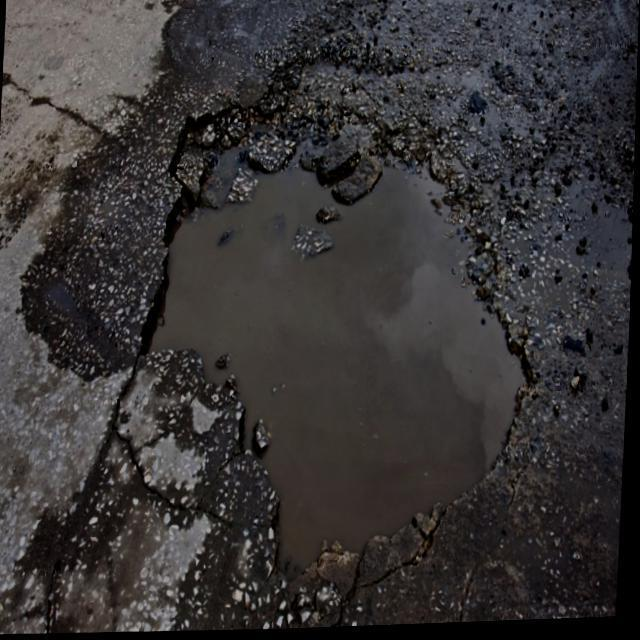Pothole: (12, 33, 583, 628)
